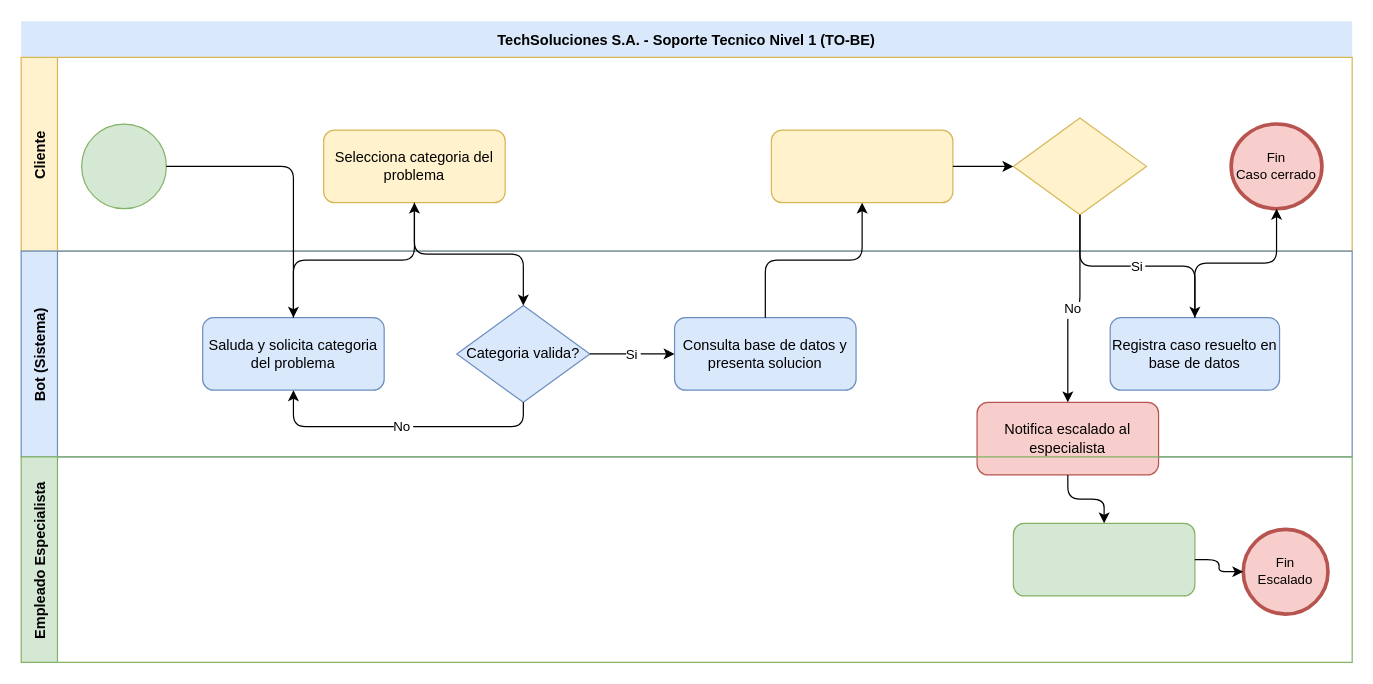
Some shapes in this 1373 by 684 pixel diagram are drawn without their labels. Each missing label, with the centre of its shape:
"Inicio" belongs at point 123,166.
"Problema resuelto?" belongs at point 1079,166.
"Recibe solucion propuesta por el bot" belongs at point 861,166.
"Recibe y atiende el caso escalado" belongs at point 1103,559.
